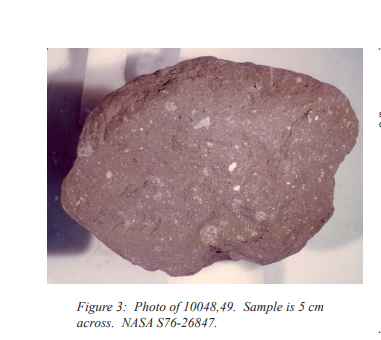Breccia: (62, 52, 348, 274)
